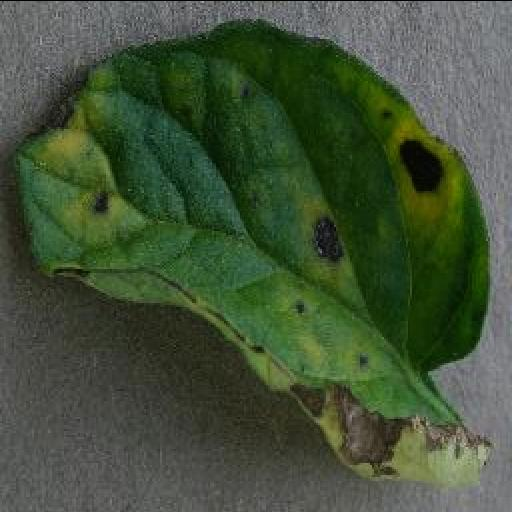disease_tomato: (13, 14, 495, 480)
